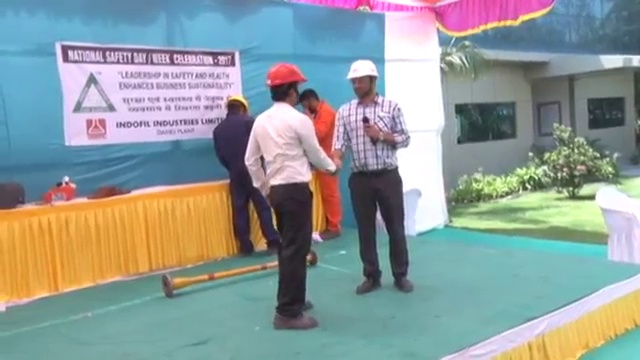helmet: (264, 61, 309, 86), (346, 58, 380, 81), (227, 93, 249, 111)
helmet_off: (299, 88, 322, 114)
helmet_on: (264, 61, 309, 111), (346, 58, 382, 104), (226, 92, 249, 116)
person: (245, 61, 336, 332), (331, 58, 414, 294), (214, 92, 283, 254), (299, 88, 342, 241)
